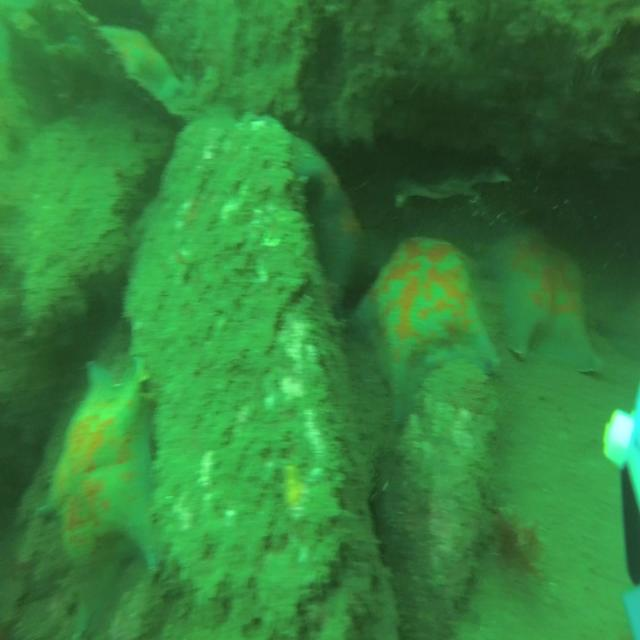starfish: (38, 363, 161, 577), (360, 238, 499, 424), (506, 237, 605, 375), (293, 136, 360, 303), (100, 24, 181, 101)
